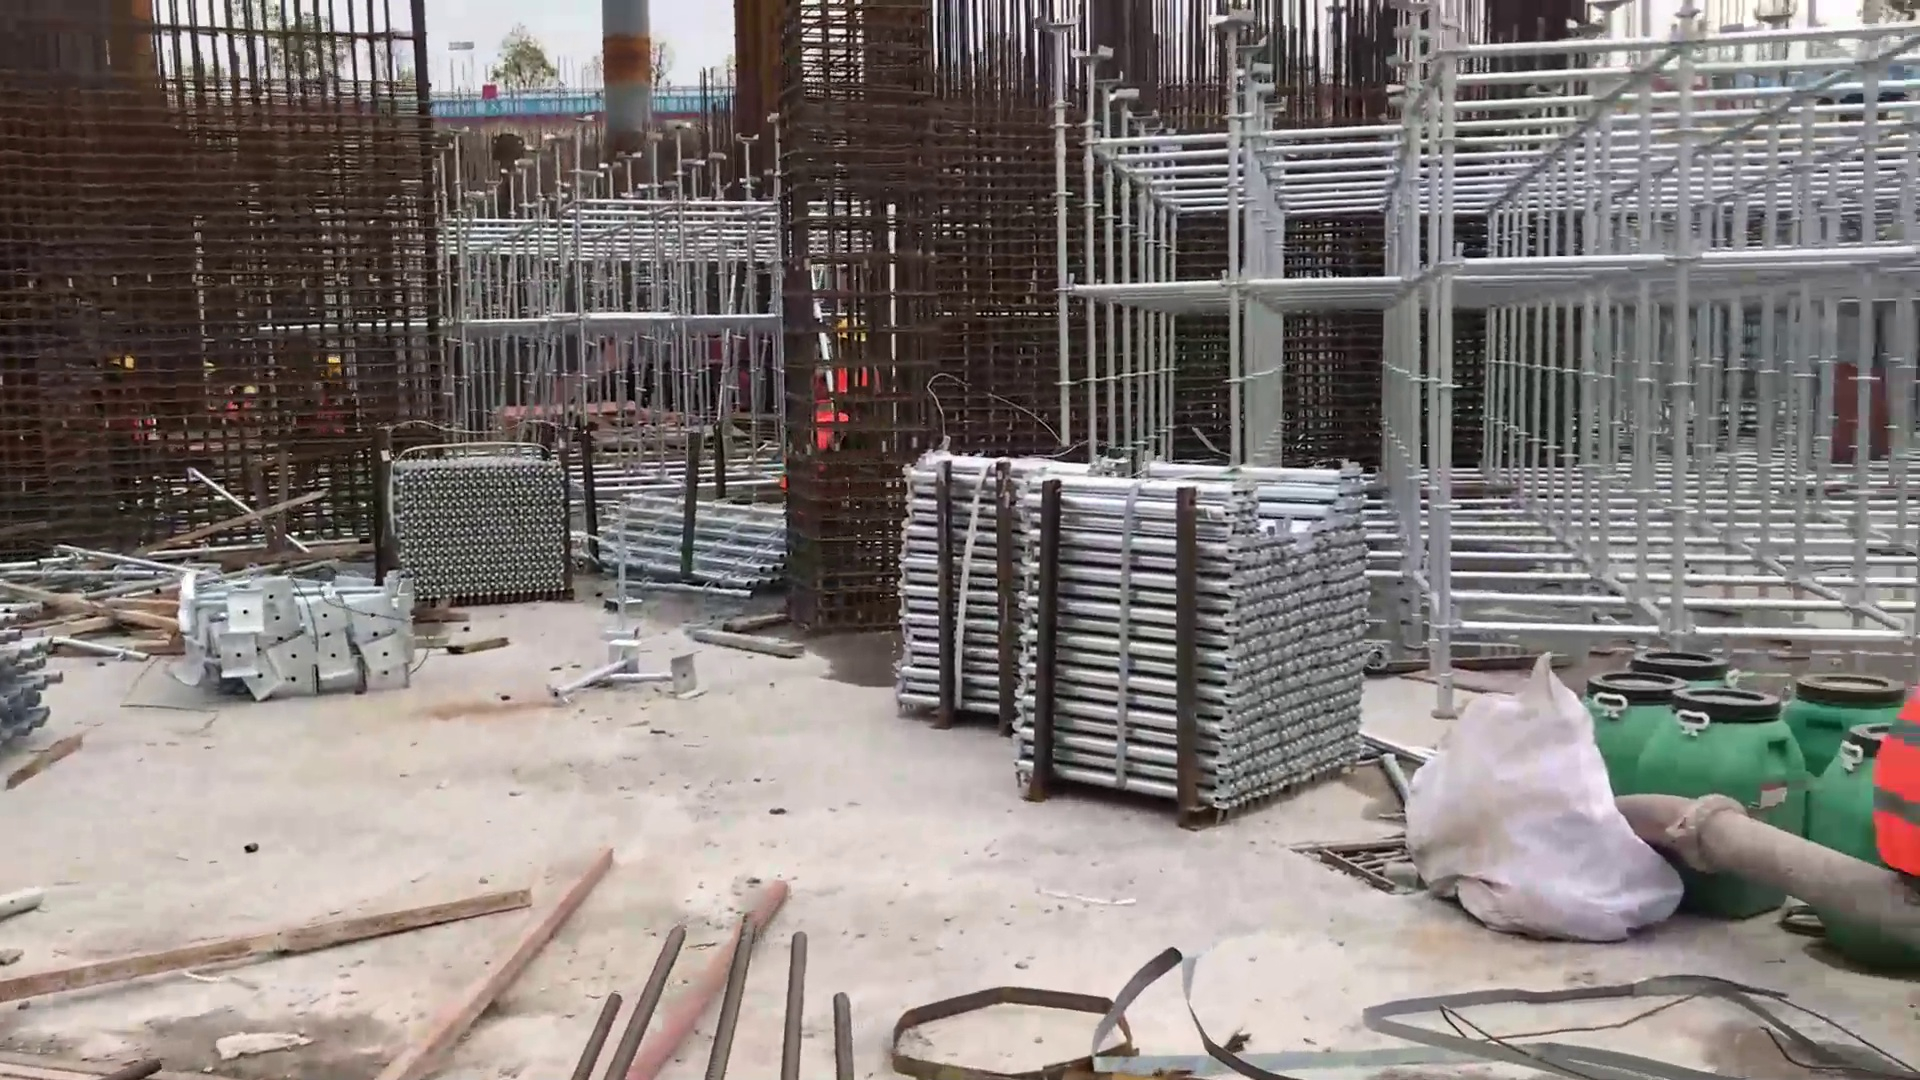fence: (354, 88, 746, 127)
helmet: (835, 313, 866, 345)
person: (283, 350, 371, 478), (812, 307, 883, 441)
scaffold: (910, 453, 1369, 787), (381, 458, 571, 603), (605, 494, 795, 590), (1, 602, 42, 727)
slogan: (431, 94, 720, 127)
vest: (1872, 656, 1920, 886), (787, 403, 845, 464), (828, 356, 878, 424)
